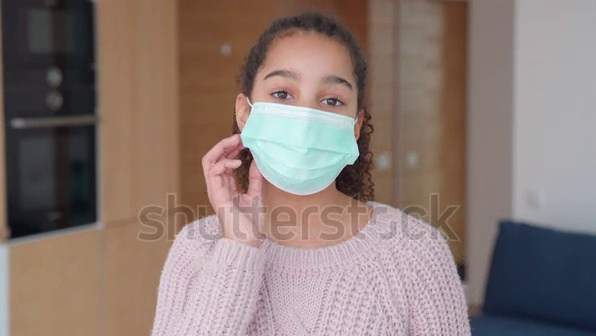Mask: (231, 102, 365, 195)
